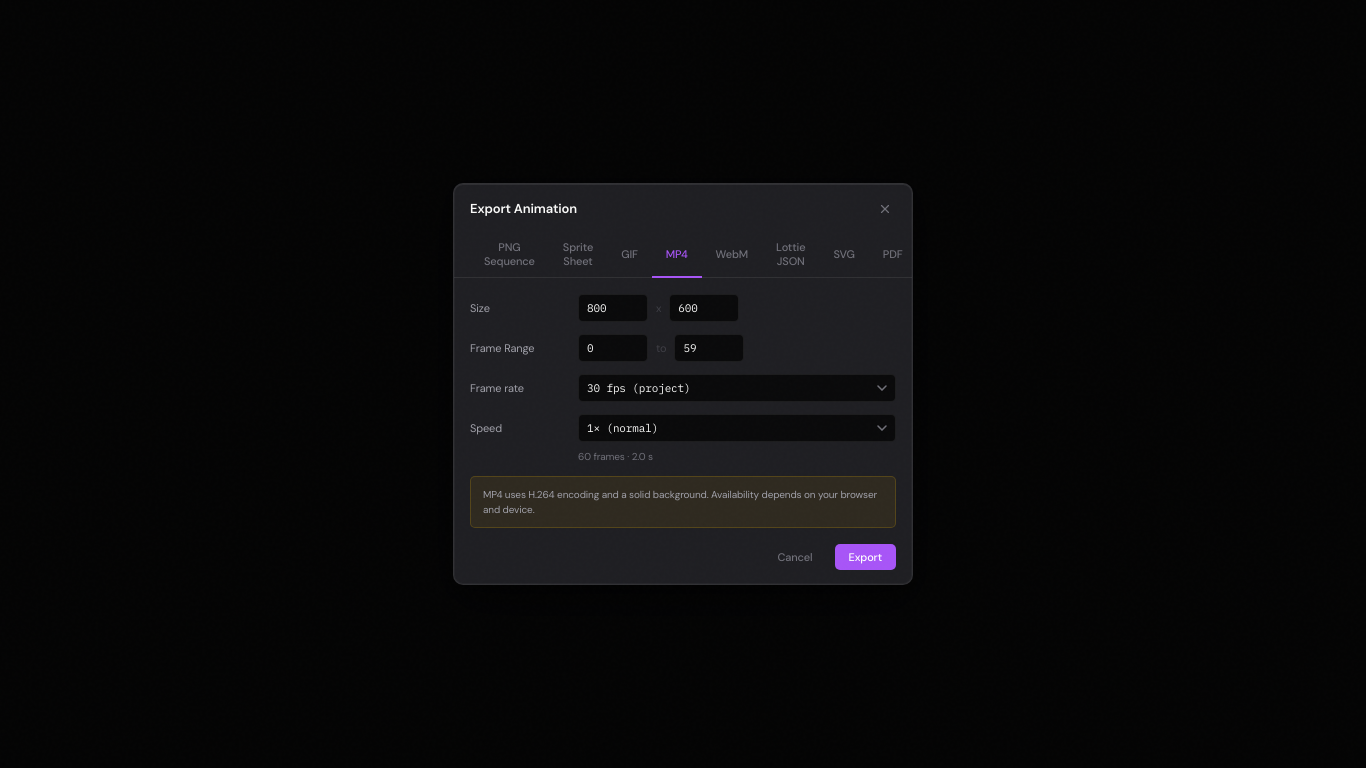
Test: ExportDialog › shows an MP4 capability error returned by the encoder
Click the button with test id "export-dialog-export". click: (865, 557)
box: [834,544,896,570]
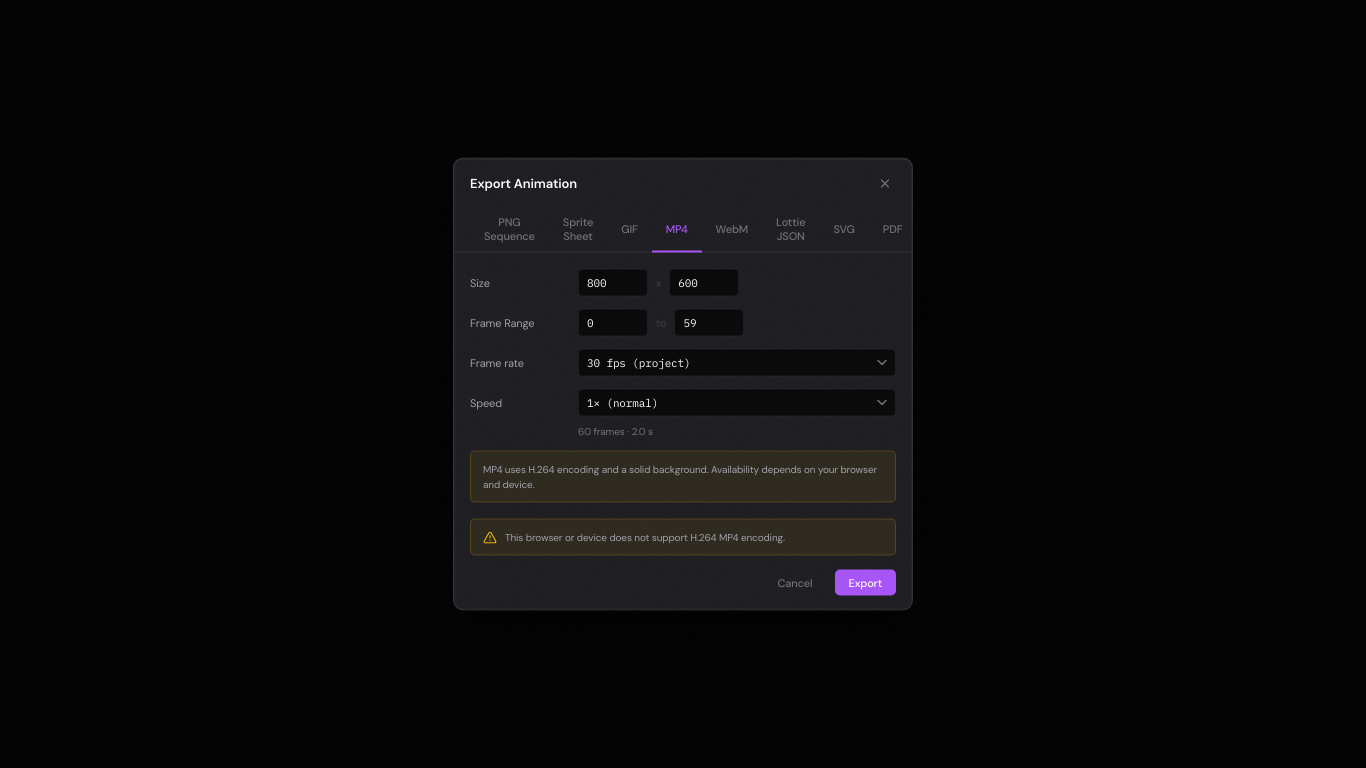
Check: the message with test id "export-error" shows "does not support H.264 MP4 encoding", box [505,530,785,544]
